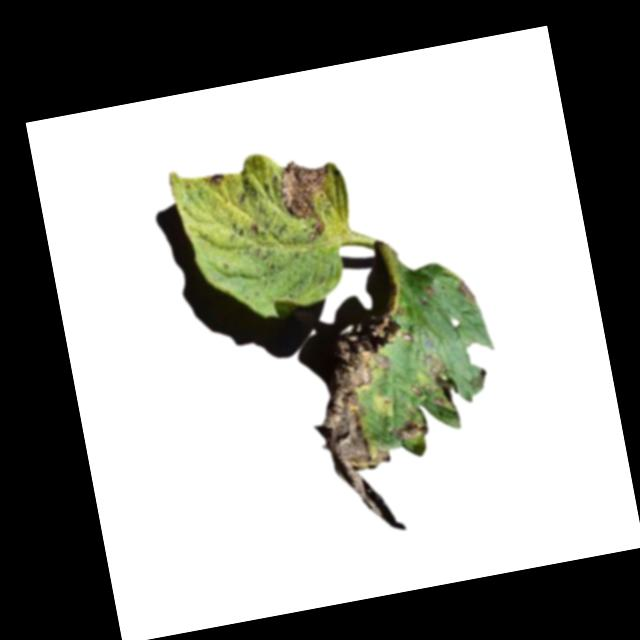Early_blight: (309, 319, 439, 543), (276, 154, 340, 248), (408, 350, 463, 415), (452, 275, 477, 309), (203, 171, 226, 189)
